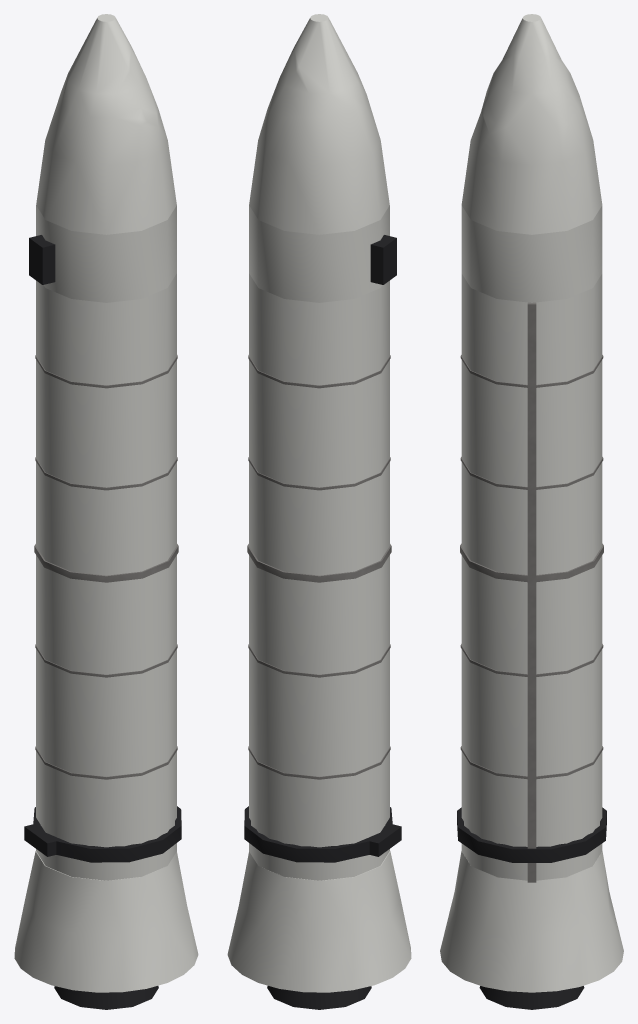
Rendered from prop06_srb_large.glb.
The picture shows the model from 3 angles, left to right: view 1: azimuth 30°, elevation 25°; view 2: azimuth 150°, elevation 25°; view 3: azimuth 270°, elevation 25°; orthographic projection.
Visible parts, largest first — view 1: casing, nose_cone, aft_skirt, forward_skirt, attach_fittings, joint_bands, nozzle; view 2: casing, nose_cone, aft_skirt, forward_skirt, attach_fittings, joint_bands, nozzle; view 3: casing, nose_cone, aft_skirt, forward_skirt, systems_tunnel, joint_bands, attach_fittings, nozzle.
Boxes of the visible parts, x1=… form: casing: x1=36, y1=273, x2=176, y2=880; nose_cone: x1=36, y1=14, x2=176, y2=234; aft_skirt: x1=14, y1=851, x2=198, y2=992; forward_skirt: x1=36, y1=205, x2=176, y2=302; attach_fittings: x1=24, y1=235, x2=181, y2=862; joint_bands: x1=34, y1=355, x2=178, y2=779; nozzle: x1=54, y1=986, x2=158, y2=1009; casing: x1=249, y1=273, x2=389, y2=880; nose_cone: x1=249, y1=14, x2=389, y2=234; aft_skirt: x1=227, y1=851, x2=411, y2=992; forward_skirt: x1=249, y1=205, x2=389, y2=302; attach_fittings: x1=244, y1=235, x2=401, y2=862; joint_bands: x1=247, y1=355, x2=391, y2=779; nozzle: x1=267, y1=986, x2=371, y2=1009; casing: x1=461, y1=274, x2=602, y2=880; nose_cone: x1=461, y1=14, x2=602, y2=234; aft_skirt: x1=440, y1=851, x2=623, y2=992; forward_skirt: x1=461, y1=206, x2=602, y2=302; systems_tunnel: x1=527, y1=302, x2=536, y2=882; joint_bands: x1=460, y1=355, x2=603, y2=779; attach_fittings: x1=457, y1=807, x2=606, y2=862; nozzle: x1=479, y1=986, x2=584, y2=1009.
Size of the model in its own units: 4.9 by 28.5 by 4.9.
Materials: 3 (1 with a texture image).
